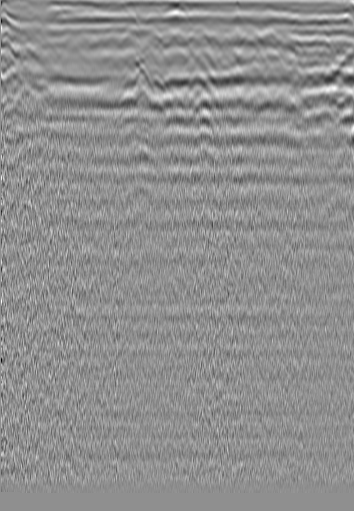가스: (120, 182, 153, 210)
상수: (307, 32, 327, 52)
오수: (19, 45, 39, 65)
우수: (164, 30, 184, 50)
